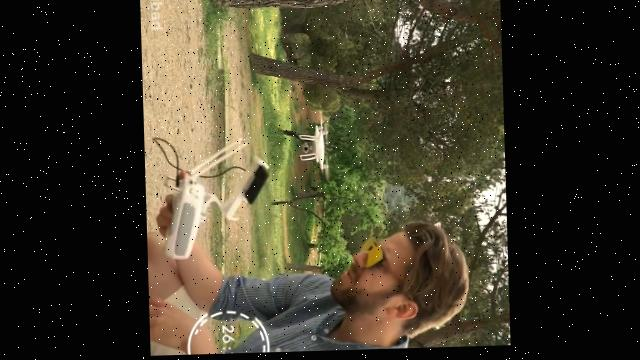drone: (297, 117, 332, 184)
